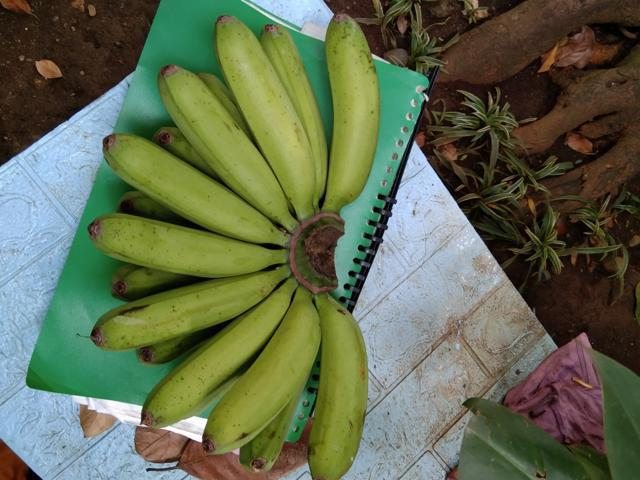freshunripe: (135, 302, 302, 433), (211, 6, 312, 215), (154, 57, 285, 217), (297, 282, 387, 479), (106, 130, 258, 243), (74, 202, 280, 276), (315, 8, 386, 206)
unripe: (88, 270, 283, 357)
